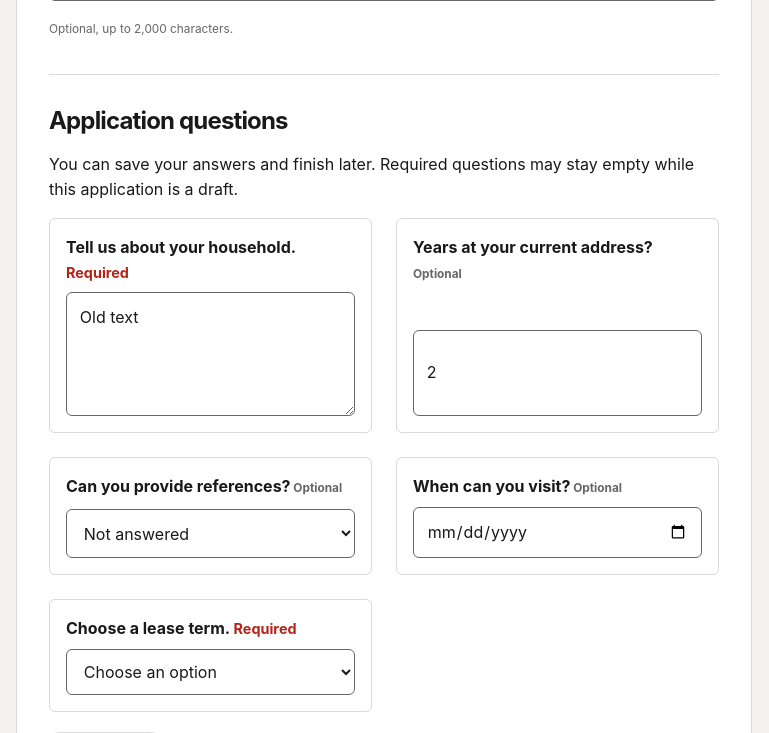
Test: draft application question controls › saves updates and explicit clearing in one answer request
The image size is (769, 733).
(page scrolled)
Replace the text in the text box labelled "Tell us about your household. Required" with "Updated text" at (210, 354), box [66, 292, 355, 416]
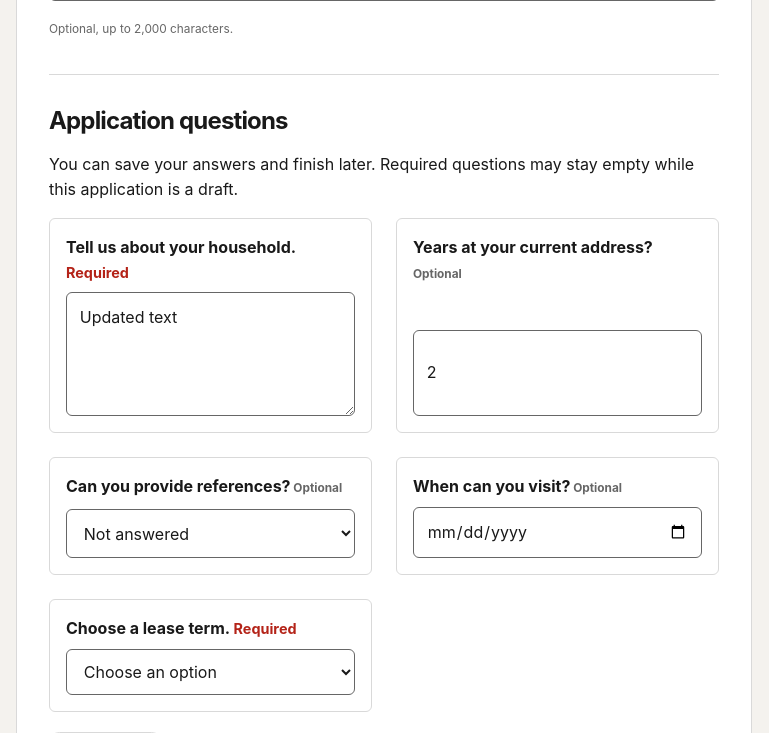
Clear the number field labelled "Years at your current address? Optional" at (558, 373), box [413, 330, 702, 416]
(page scrolled)
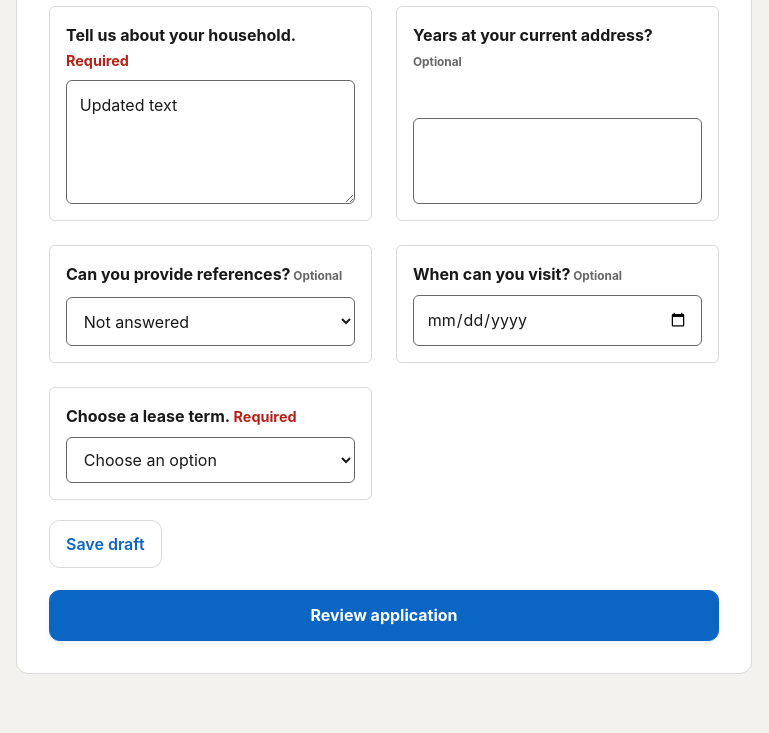
Click the button "Save draft" at (105, 544), box [49, 520, 162, 568]
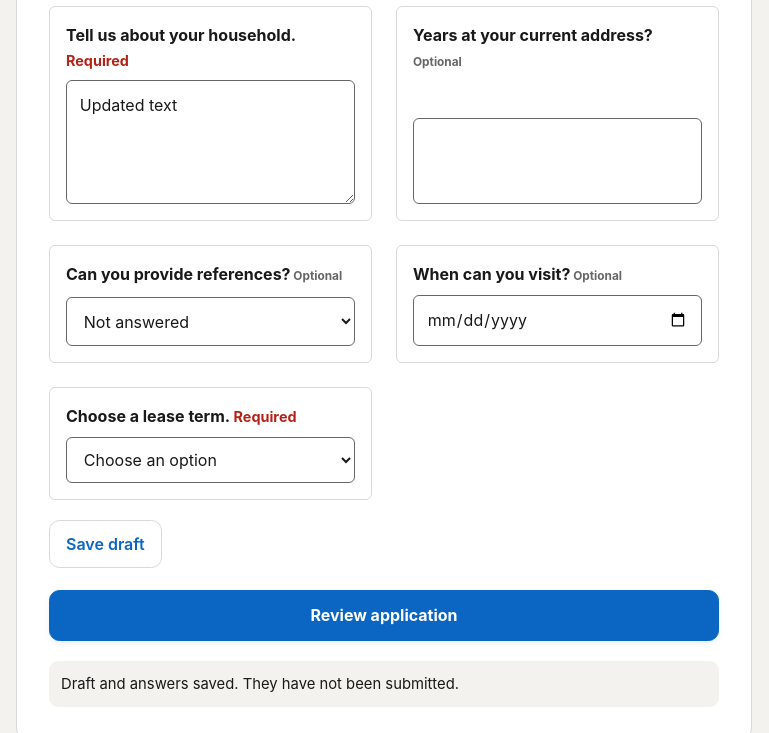
Result: the text "Draft and answers saved. They have not been submitted." is shown at [49, 660, 719, 707]
